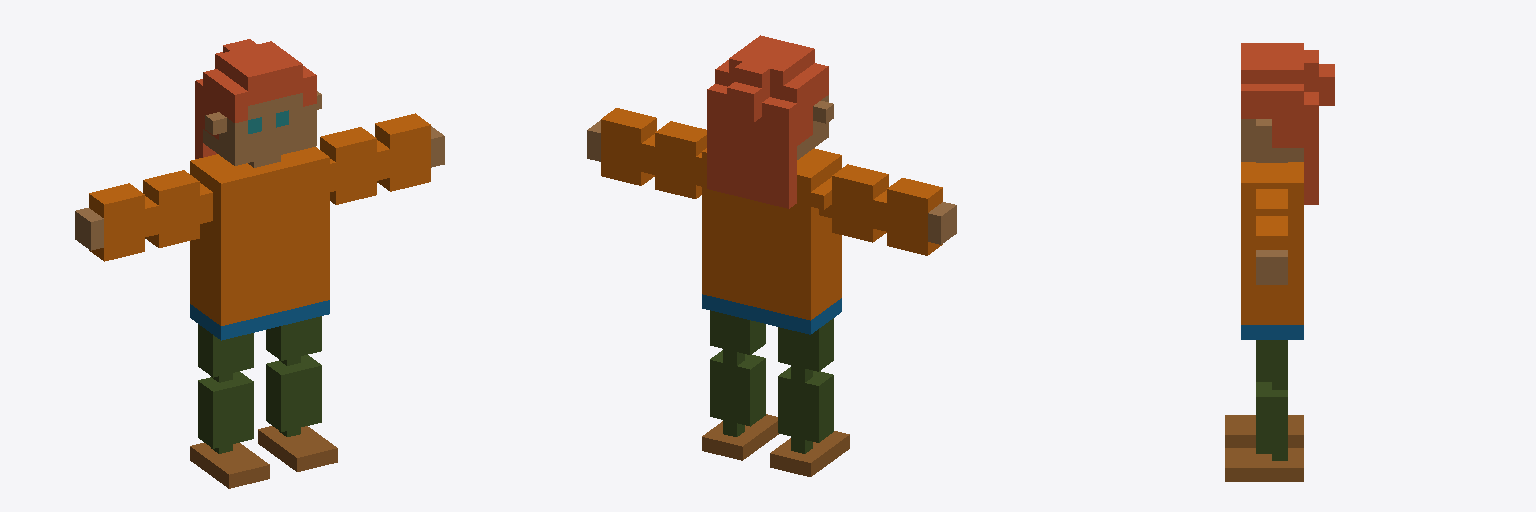
3 views of the same model, side by side, from view 1: azimuth 30°, elevation 25°; view 2: azimuth 150°, elevation 25°; view 3: azimuth 270°, elevation 25° (orthographic).
Parts seen in each view (by area): view 1: character5; view 2: character5; view 3: character5.
Part boxes in pixels (left/top/right/bottom): character5: left=75, top=39, right=444, bottom=488; character5: left=587, top=35, right=956, bottom=476; character5: left=1225, top=43, right=1334, bottom=481.
Size of the model in its own units: 26 by 28 by 7.
Materials: 1 (1 with a texture image).